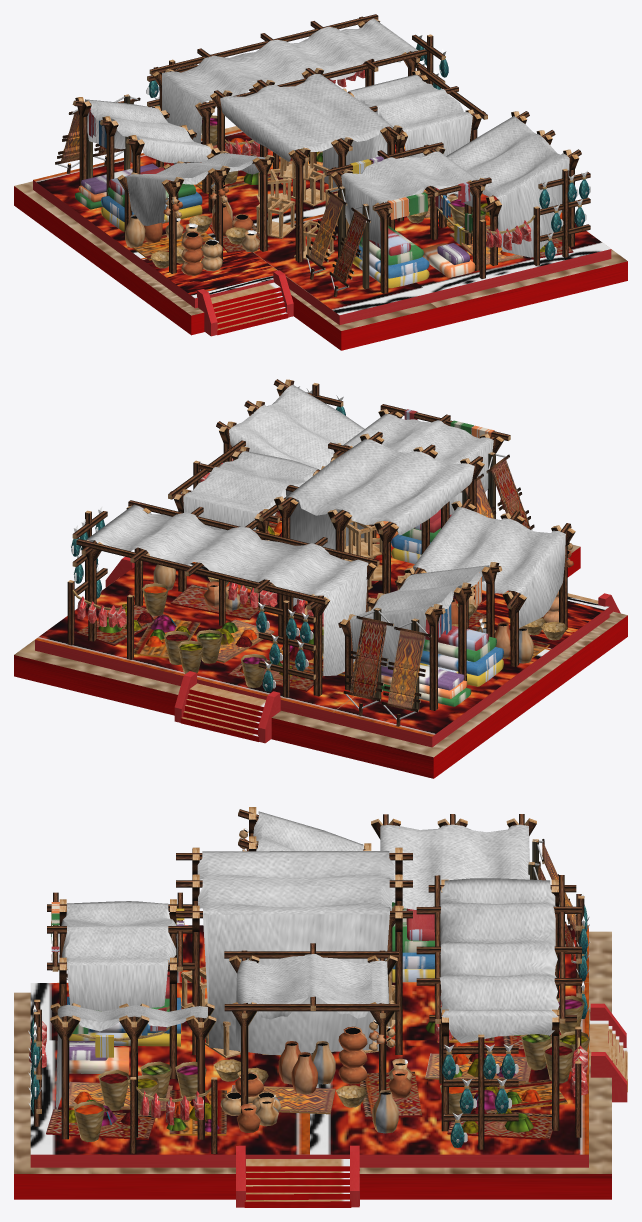
Rendered from market_1.dae.
3 views of the same model, one above another, from view 1: azimuth 30°, elevation 25°; view 2: azimuth 150°, elevation 25°; view 3: azimuth 270°, elevation 25° (orthographic). The views are drawn at different scales.
Parts seen in each view (by area): view 1: market; view 2: market; view 3: market.
Part boxes in pixels (left/top/right/bottom): market: left=14, top=14, right=627, bottom=350; market: left=14, top=379, right=627, bottom=778; market: left=14, top=807, right=627, bottom=1207.
Bounding box in the file's own units: 26.99 × 27.87 × 9.26.
